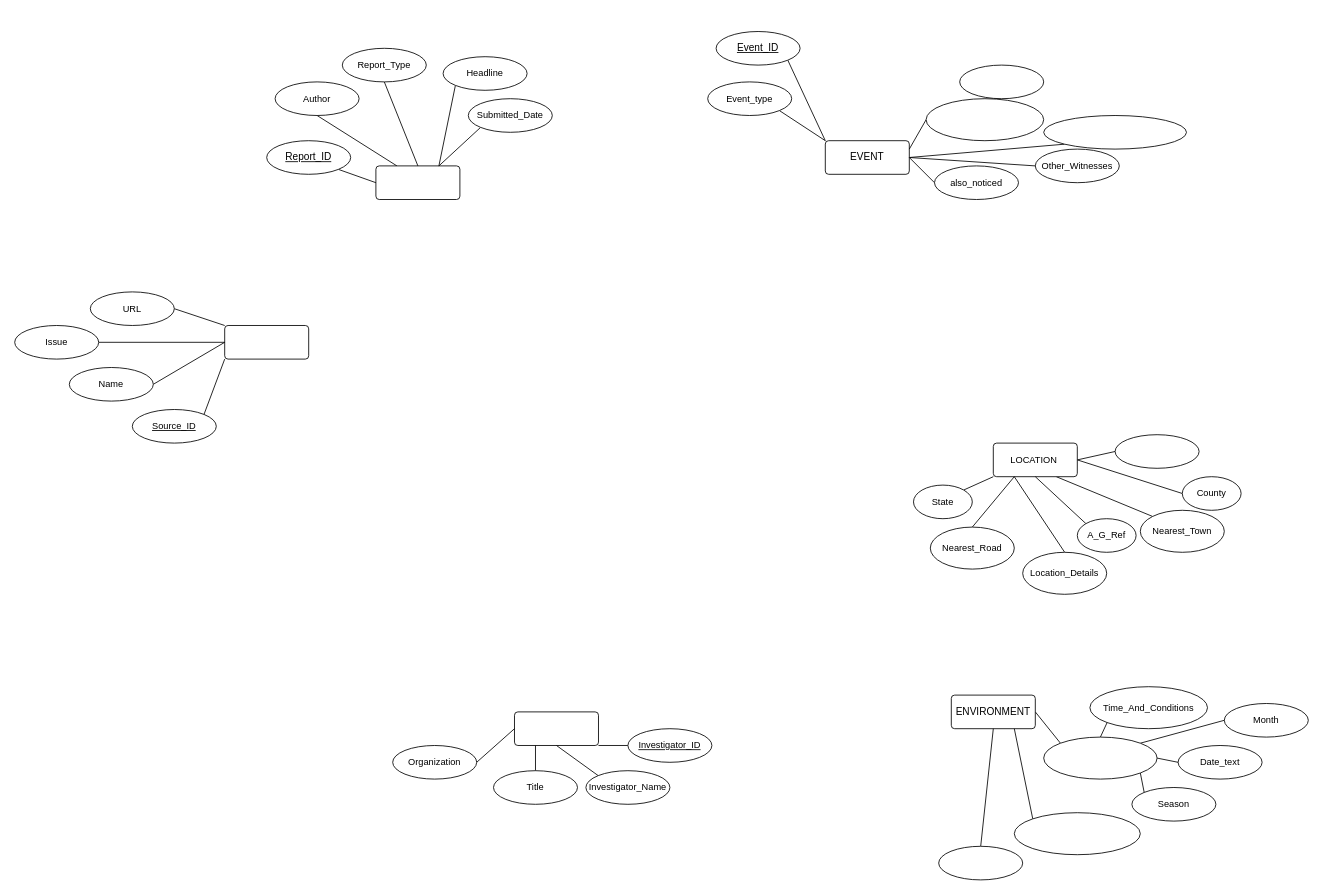
Image size: 1323x895. Some labels were removed from this diagram. Here are the shapes that lost their labels. From the top down, the centre of each, then its label:
point (1001, 81): Year
point (984, 119): Observed_Description
point (1114, 132): Witnesses_other_stories
point (417, 182): REPORT
point (266, 342): MEDIA
point (1156, 451): Location_ID
point (556, 728): INVESTIGATOR
point (1100, 757): Environment_Details
point (1076, 833): Environment_Description
point (980, 862): Environment_ID
